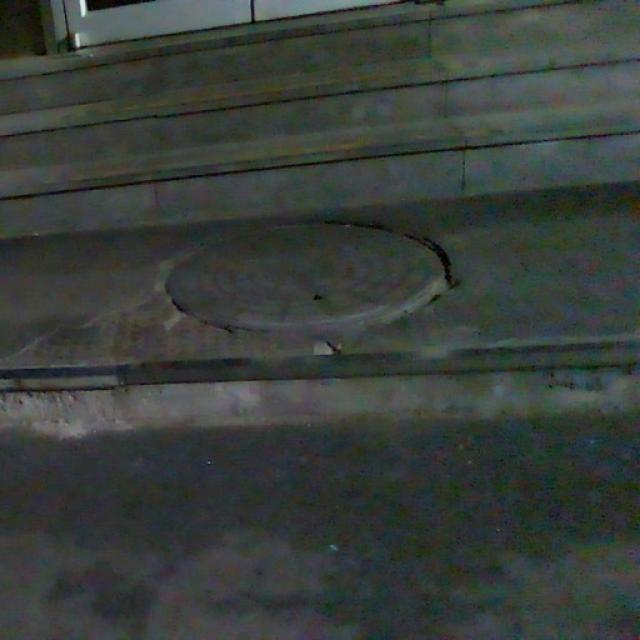Stairs: (0, 1, 638, 247), (0, 341, 640, 448)
